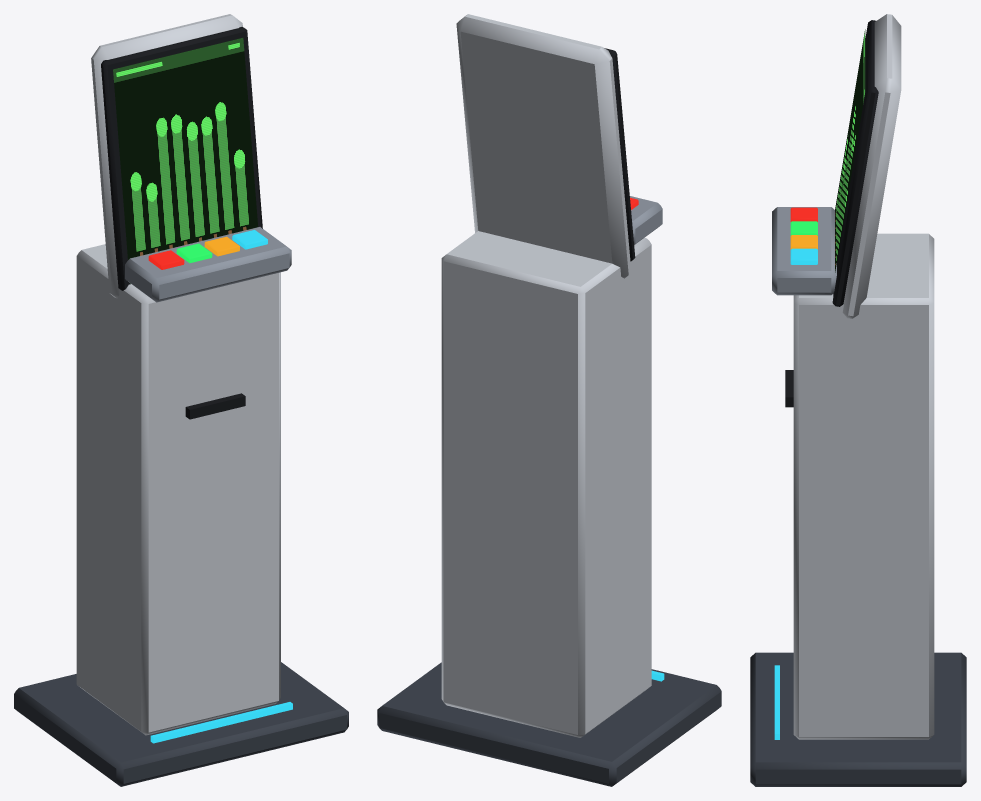
Rendered from terminal_info_kiosk.glb.
The picture shows the model from 3 angles, left to right: view 1: azimuth 30°, elevation 25°; view 2: azimuth 150°, elevation 25°; view 3: azimuth 270°, elevation 25°; orthographic projection. The views are drawn at different scales.
Parts seen in each view (by area): view 1: terminal_info_kiosk; view 2: terminal_info_kiosk; view 3: terminal_info_kiosk.
Boxes of the visible parts, x1,y1,x2,y2 form: terminal_info_kiosk: (14,14,348,786); terminal_info_kiosk: (377,14,721,786); terminal_info_kiosk: (750,14,966,786).
Size of the model in its own units: 0.5 by 1.4 by 0.4.
Materials: 9 (1 with a texture image).
